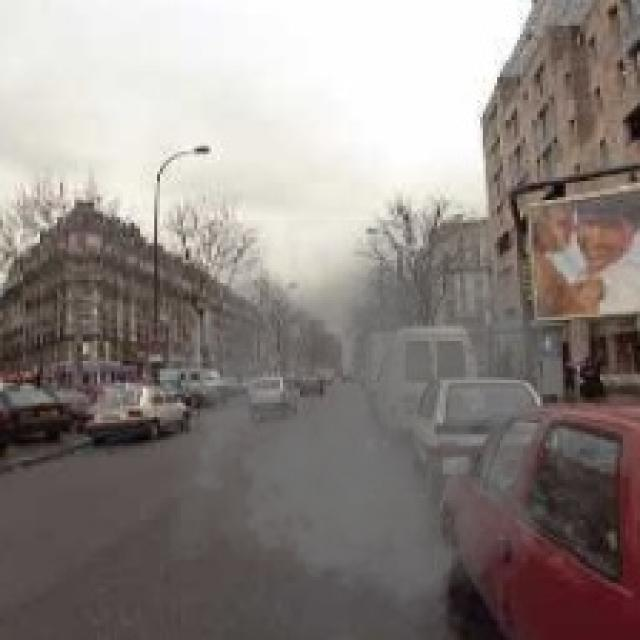Smoke: (168, 220, 566, 629)
